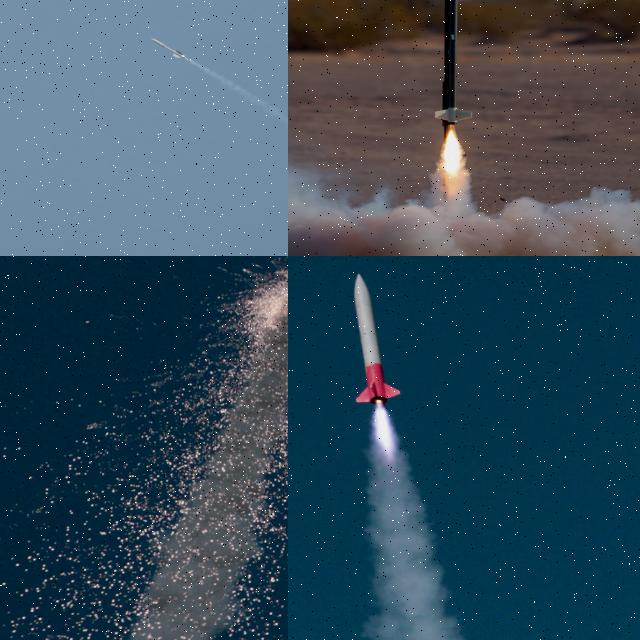Rocket: (352, 272, 402, 407), (435, 0, 473, 126), (151, 38, 186, 58)
